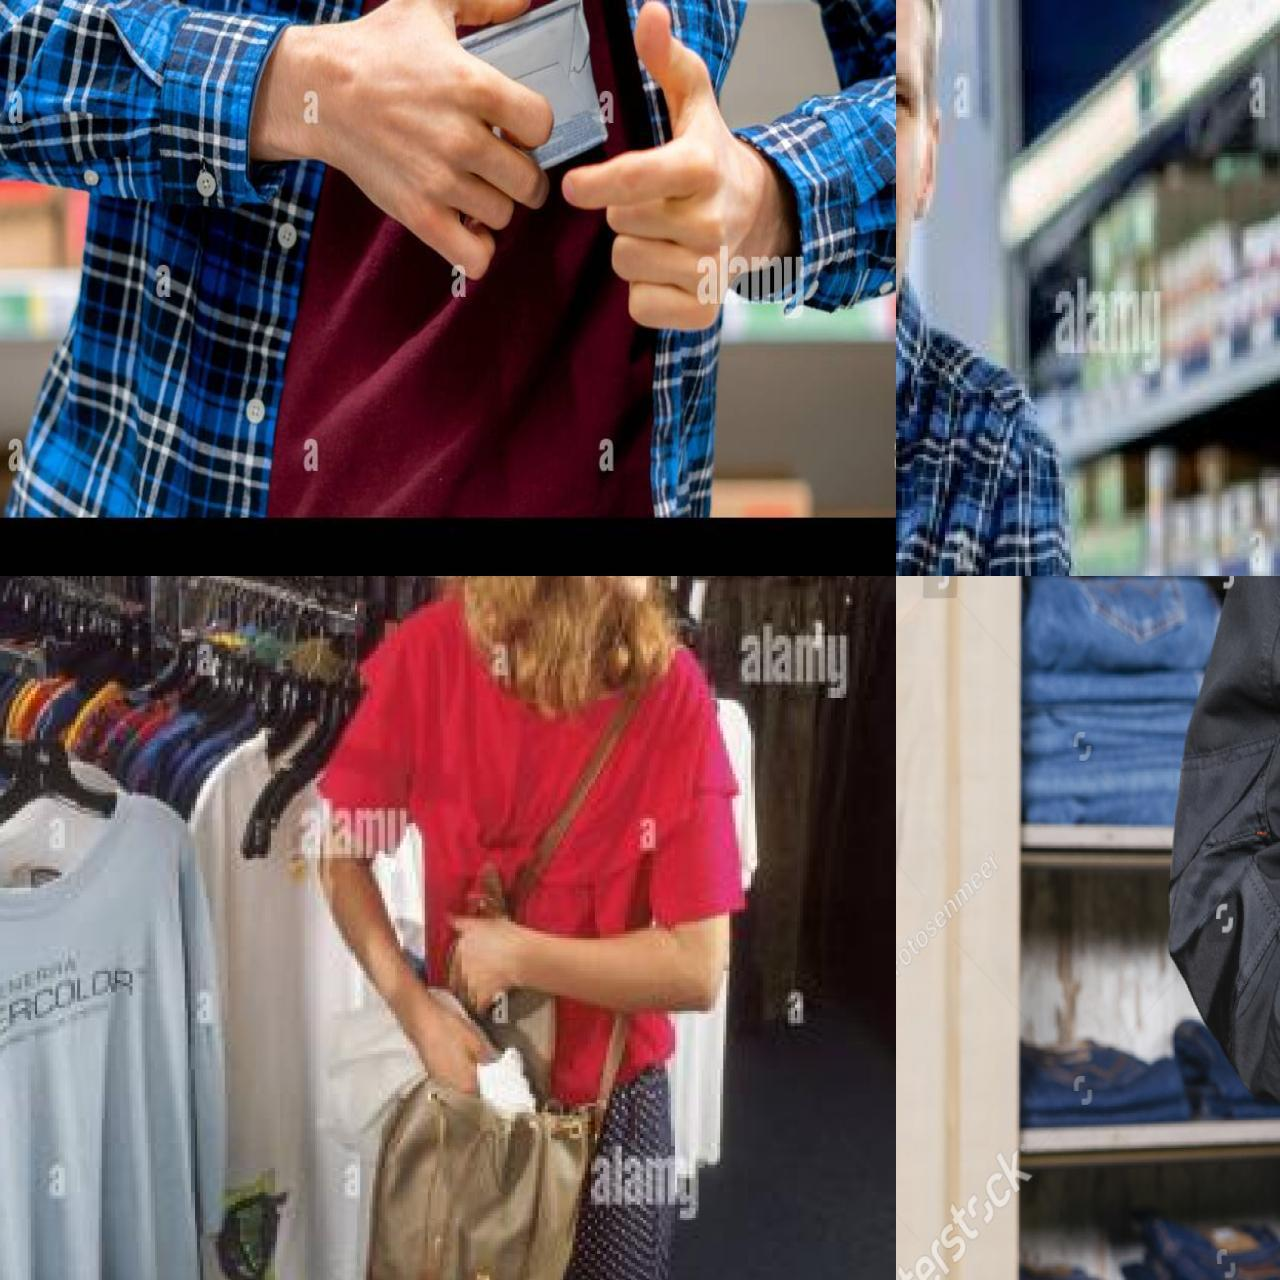Shoplifting: (59, 0, 816, 493), (292, 649, 840, 1280), (896, 86, 1074, 576)
